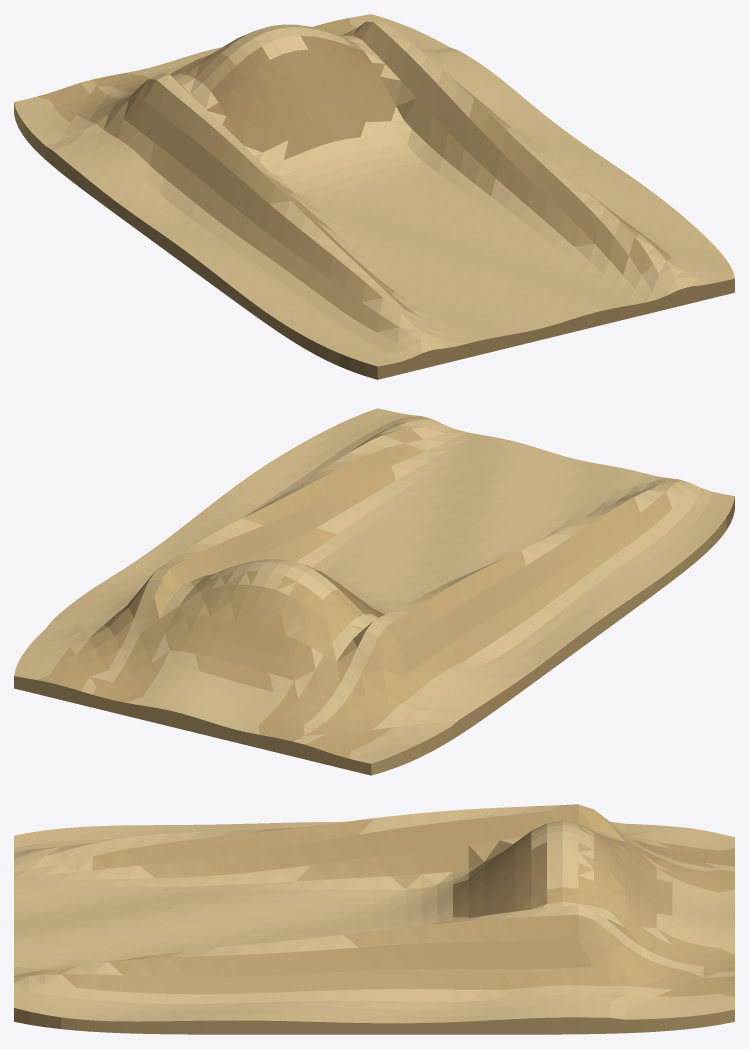
3 renders of one model, top to bottom at view 1: azimuth 30°, elevation 25°; view 2: azimuth 150°, elevation 25°; view 3: azimuth 270°, elevation 25°, orthographic.
Parts seen in each view (by area): view 1: continuous_parabolic_dune_blowout_and_trailing_arms; view 2: continuous_parabolic_dune_blowout_and_trailing_arms; view 3: continuous_parabolic_dune_blowout_and_trailing_arms.
Part boxes in pixels (x1,y1,x2,y2): continuous_parabolic_dune_blowout_and_trailing_arms: [14, 14, 734, 379]; continuous_parabolic_dune_blowout_and_trailing_arms: [14, 408, 734, 775]; continuous_parabolic_dune_blowout_and_trailing_arms: [14, 804, 734, 1034].
Bounding box in the file's own units: 30 × 7.36 × 46.
